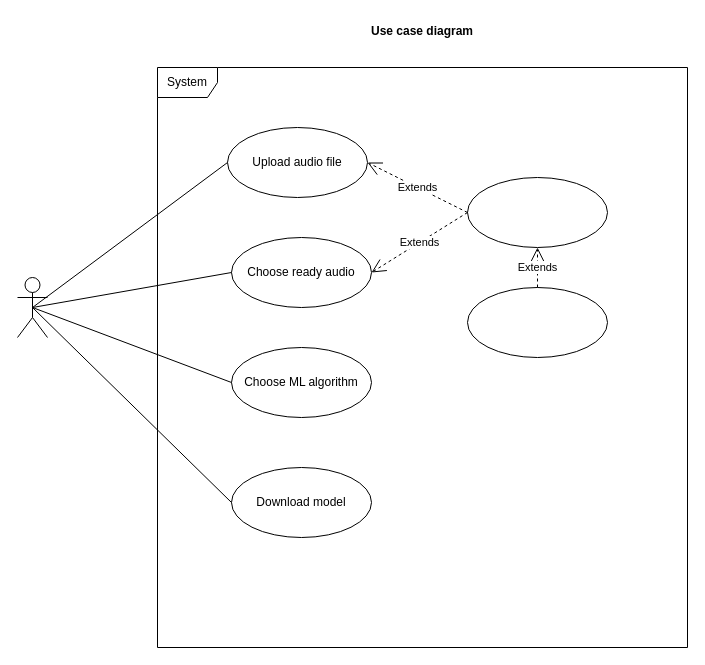
This 705x665 diagram has some shape labels left out. The box of each missing label's shape, as (x1, y1, x2, y2) in pixels:
Client: (16, 276, 48, 338)
Download results: (466, 286, 608, 358)
View results: (466, 176, 608, 248)
